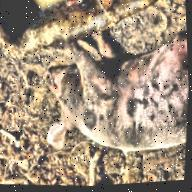boar: (35, 20, 191, 162)
